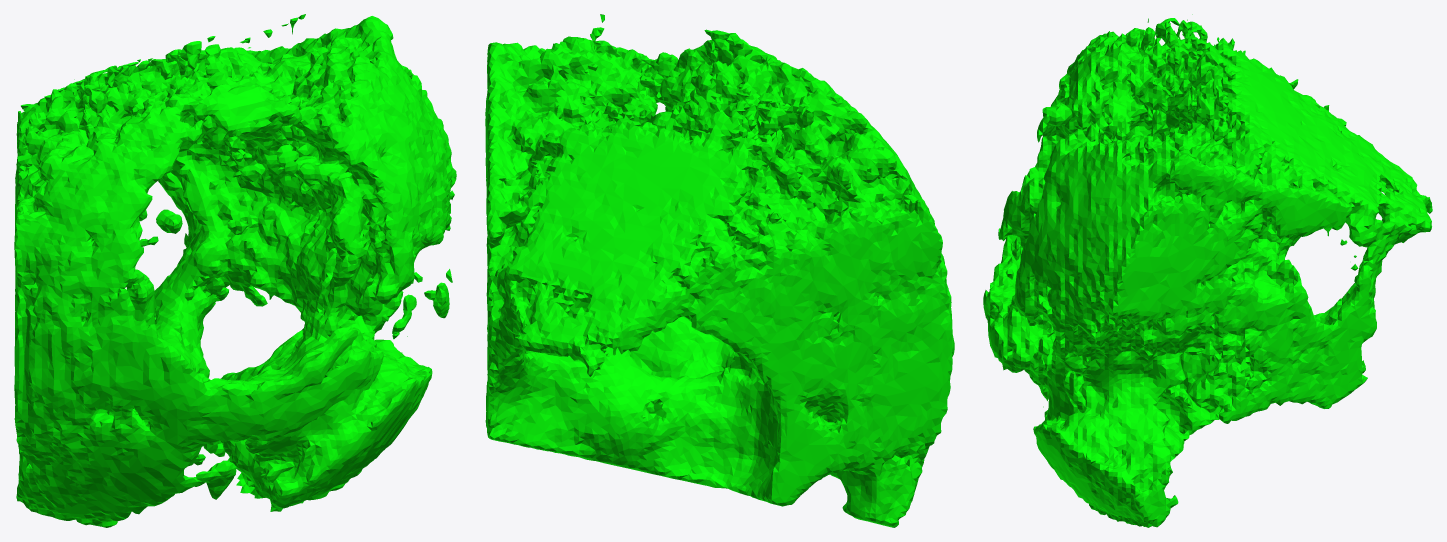
The model's file is B939XXXX-1_base_33.obj.
3 renders of one model, left to right at view 1: azimuth 30°, elevation 25°; view 2: azimuth 150°, elevation 25°; view 3: azimuth 270°, elevation 25°, orthographic. The views are drawn at different scales.
Visible parts, largest first — view 1: 33_base; view 2: 33_base; view 3: 33_base.
Part boxes in pixels (x1=…): 33_base: x1=14, y1=14, x2=456, y2=527; 33_base: x1=485, y1=14, x2=954, y2=527; 33_base: x1=983, y1=14, x2=1432, y2=527.
Size of the model in its own units: 219 by 217 by 205.
